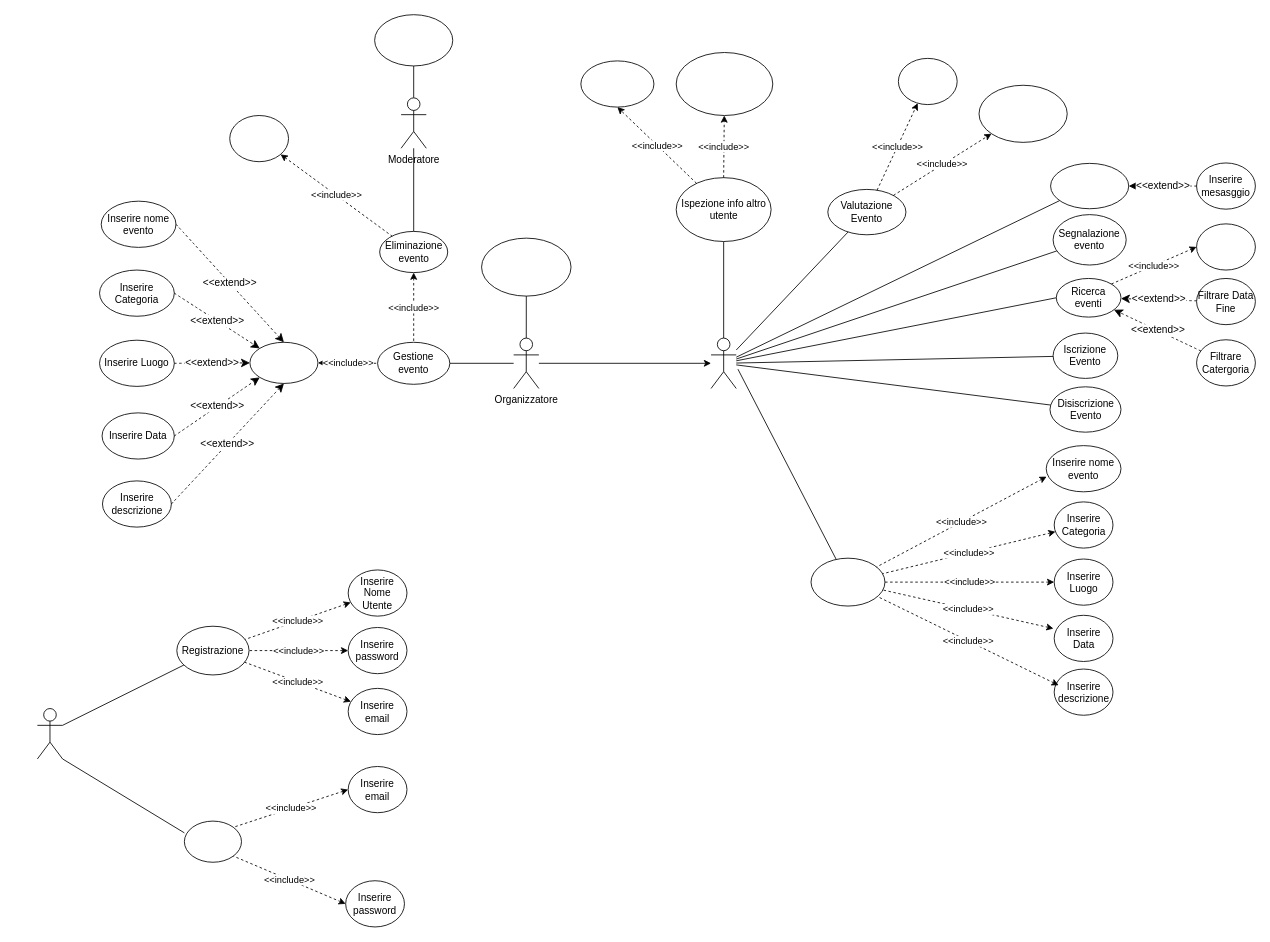
This 1270x942 diagram has some shape labels left out. Here are the shapes that lost their labels. From the top down, the centre of each, then its label:
At pixel 413 40: "Cancellazione profilo".
At pixel 617 83: "Indice affidabilità".
At pixel 724 84: "Indice popolarità".
At pixel 927 81: "Inserire Voto".
At pixel 1022 113: "Inserimento Commento / Feedback".
At pixel 259 138: "Notifica partecipanti".
At pixel 1089 186: "Chat con partecipanti".
At pixel 526 266: "Sponsorizzazione evento".
At pixel 1225 246: "Filtrare Data Inizio".
At pixel 283 362: "Modifica evento".
At pixel 723 362: "Utente".
At pixel 847 581: "Creazione evento".
At pixel 50 733: "Utente anonimo".
At pixel 213 841: "Login".
